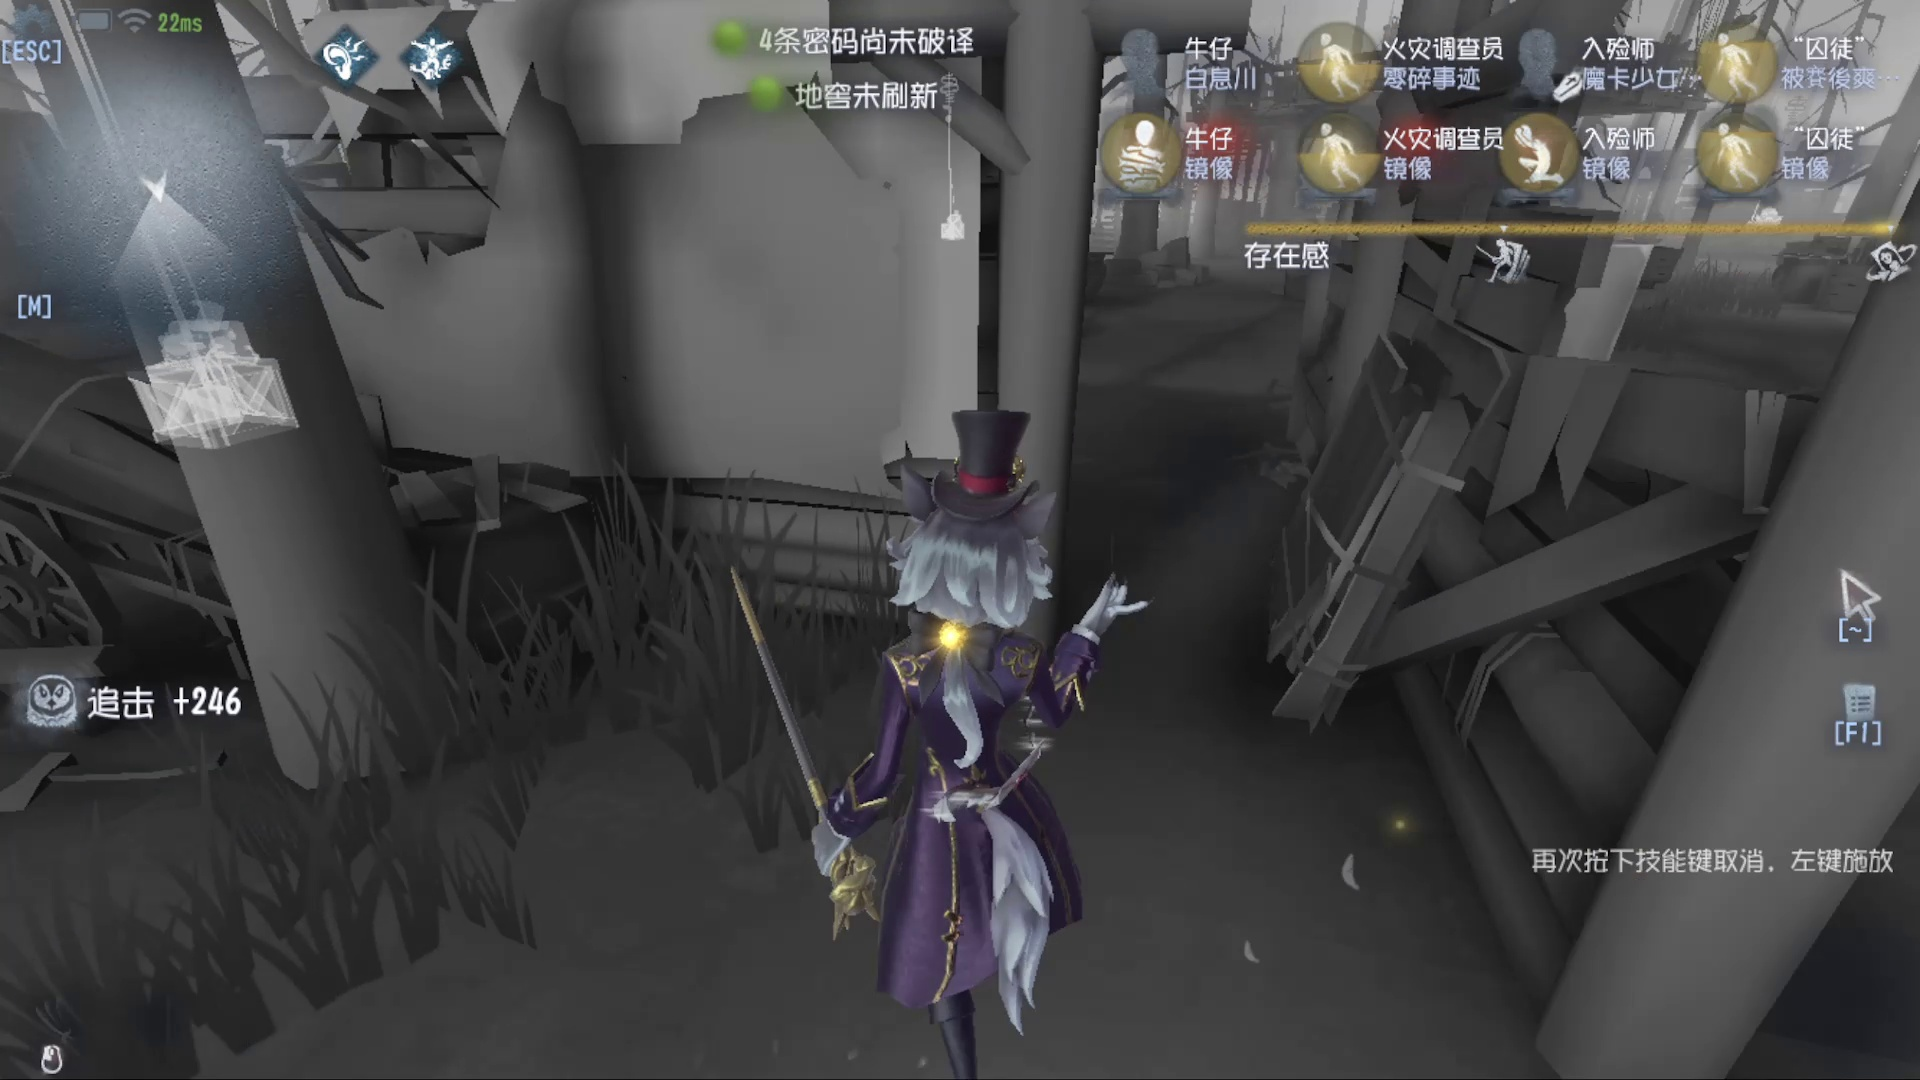密码机: (80, 286, 367, 488)
木板: (1240, 309, 1468, 740)
